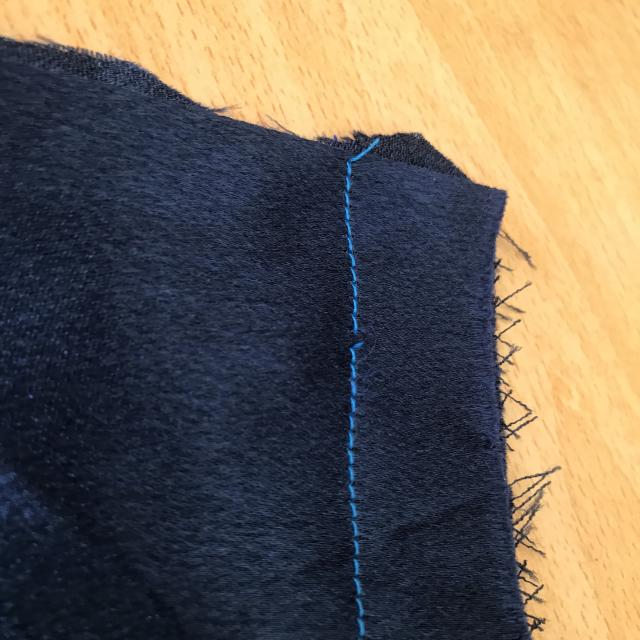broken: (334, 317, 396, 364)
good: (341, 378, 386, 604), (324, 177, 374, 299)
